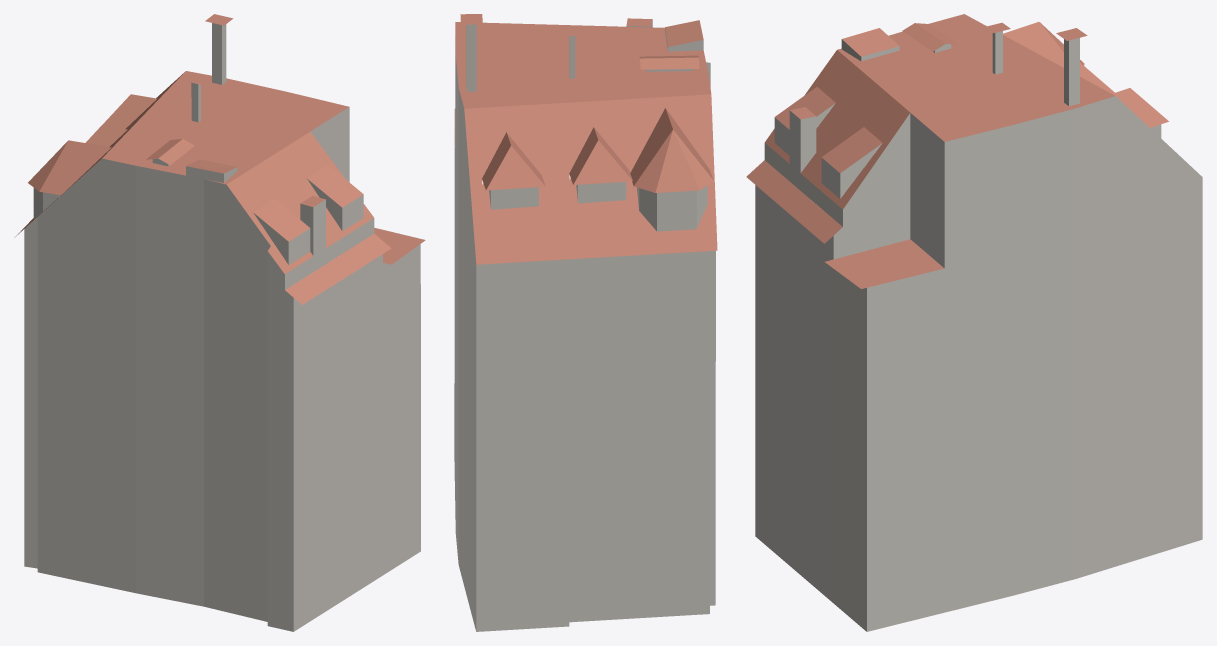
3 views of the same model, side by side, from view 1: azimuth 30°, elevation 25°; view 2: azimuth 150°, elevation 25°; view 3: azimuth 270°, elevation 25° (orthographic). The views are drawn at different scales.
Visible parts, largest first — view 1: swisstopo:swissbuildings3d:8a218126-f6ee-4b9e-98f7-7ceee079b; view 2: swisstopo:swissbuildings3d:8a218126-f6ee-4b9e-98f7-7ceee079b; view 3: swisstopo:swissbuildings3d:8a218126-f6ee-4b9e-98f7-7ceee079b.
Part boxes in pixels (x1=…): swisstopo:swissbuildings3d:8a218126-f6ee-4b9e-98f7-7ceee079b: x1=14, y1=14, x2=425, y2=631; swisstopo:swissbuildings3d:8a218126-f6ee-4b9e-98f7-7ceee079b: x1=454, y1=14, x2=717, y2=631; swisstopo:swissbuildings3d:8a218126-f6ee-4b9e-98f7-7ceee079b: x1=746, y1=14, x2=1202, y2=631.
Size of the model in its own units: 17.68 by 25.57 by 19.62.
